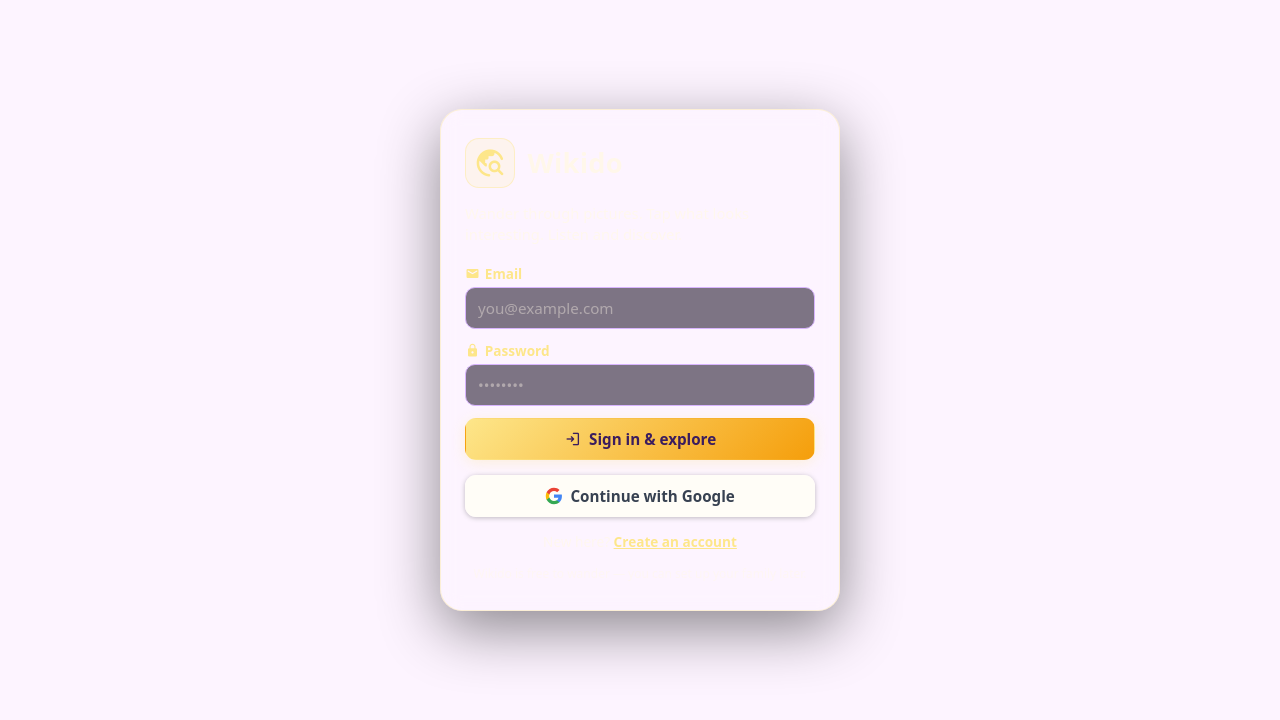
WikidoGate › translates auth failures into friendly copy
The image size is (1280, 720).
Type "kid@example.com" into the field labelled "Email". click: (640, 308)
box: [465,287,815,328]
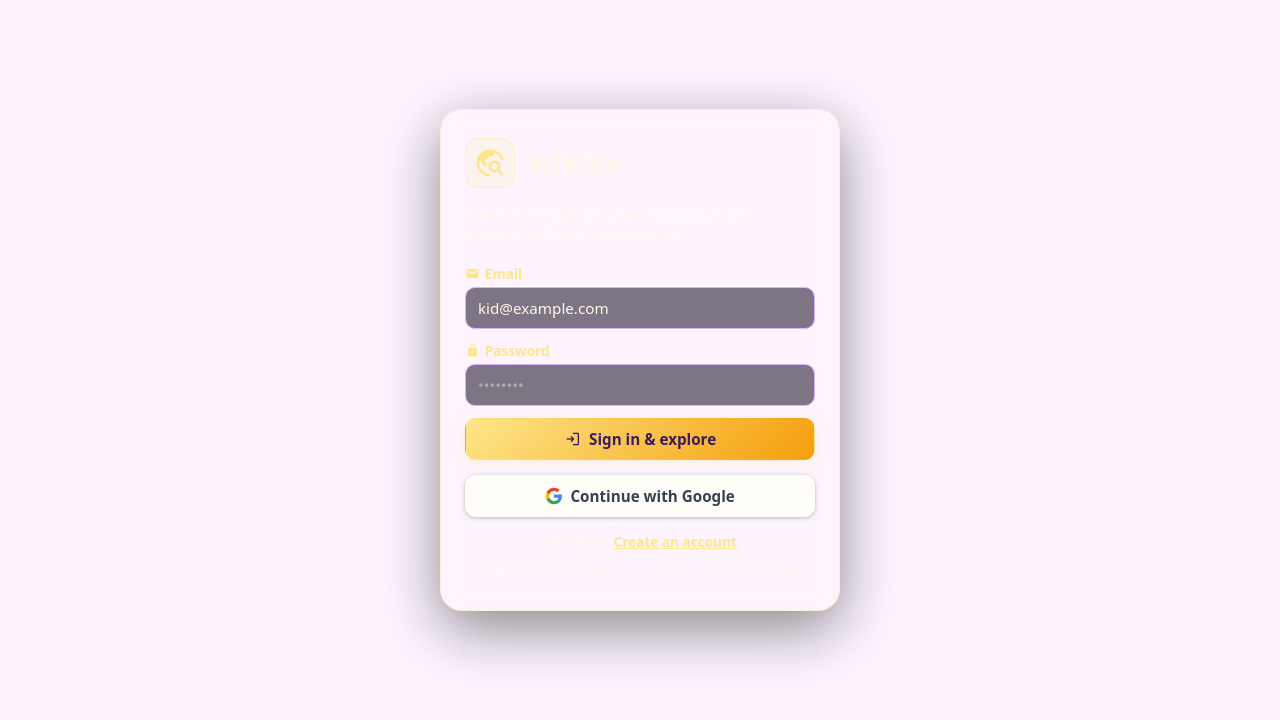
Type "wrong-pass" into the password field labelled "Password". click: (640, 385)
box: [465,364,815,406]
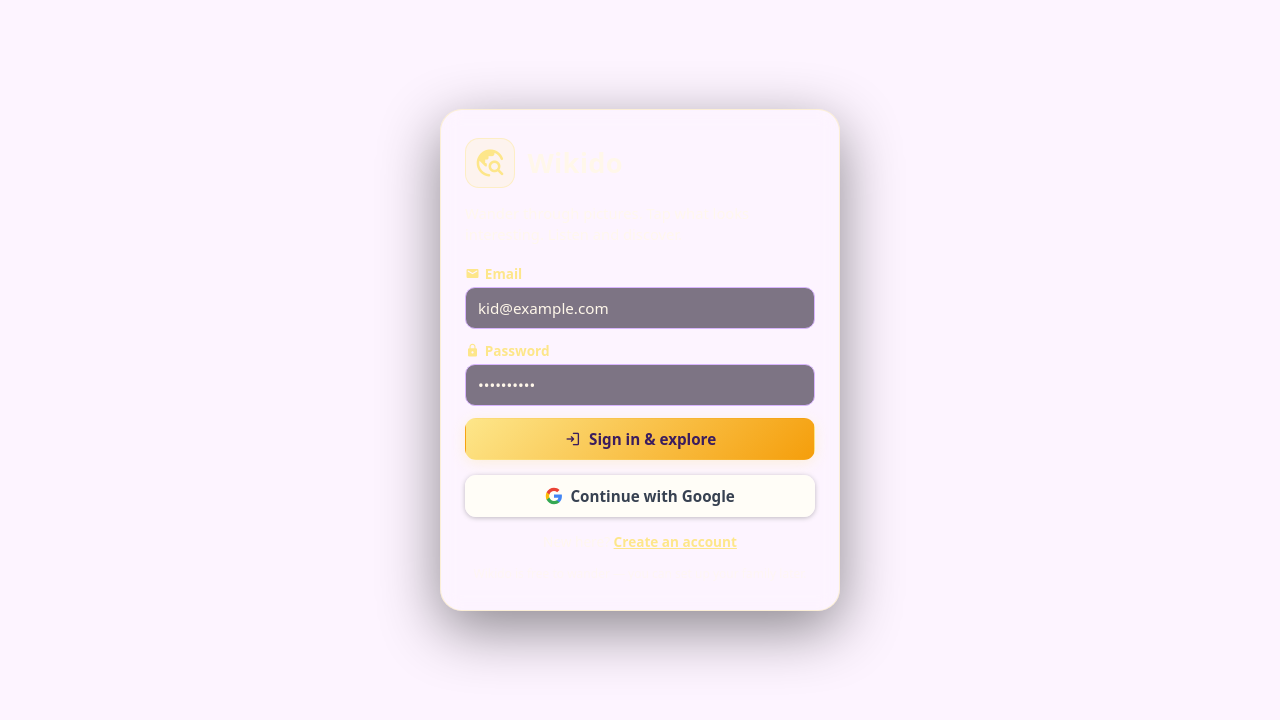
Submit the form, box [465,264,815,460]
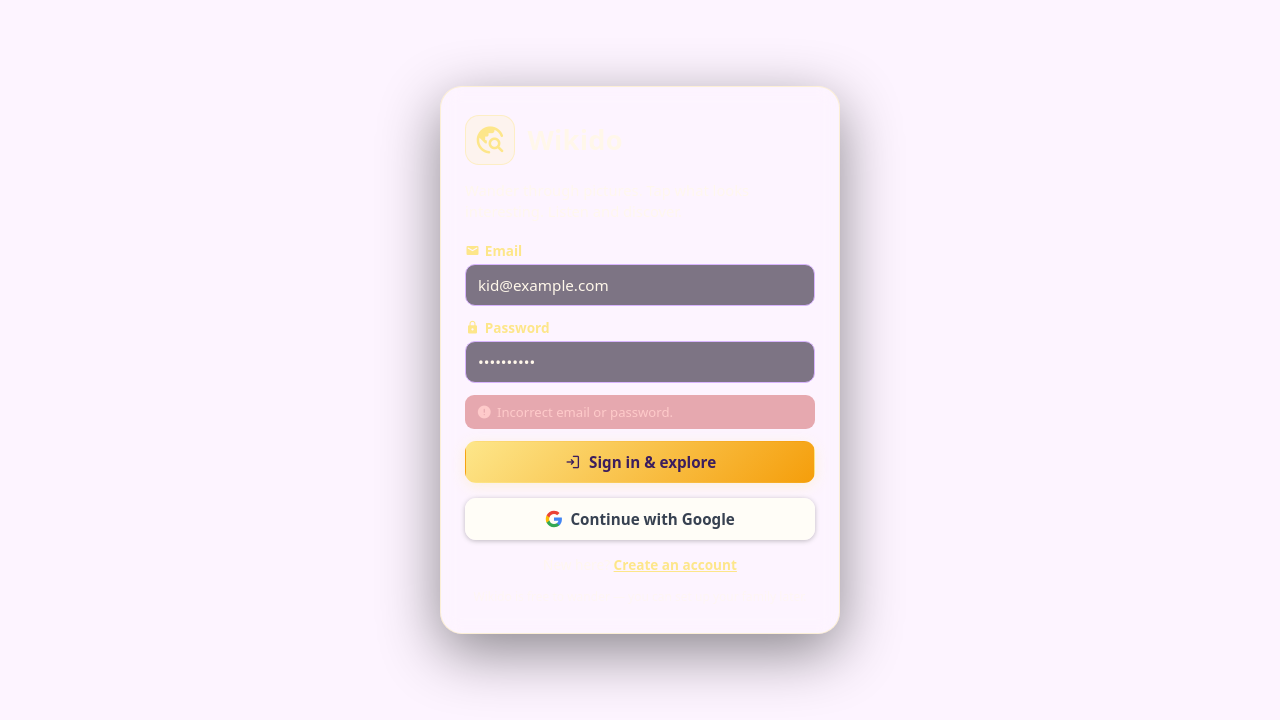
Expected: the message with class "wd-gate-error" reads "Incorrect email or password.", [497,402,673,420]
Submit the form, box [465,240,815,483]
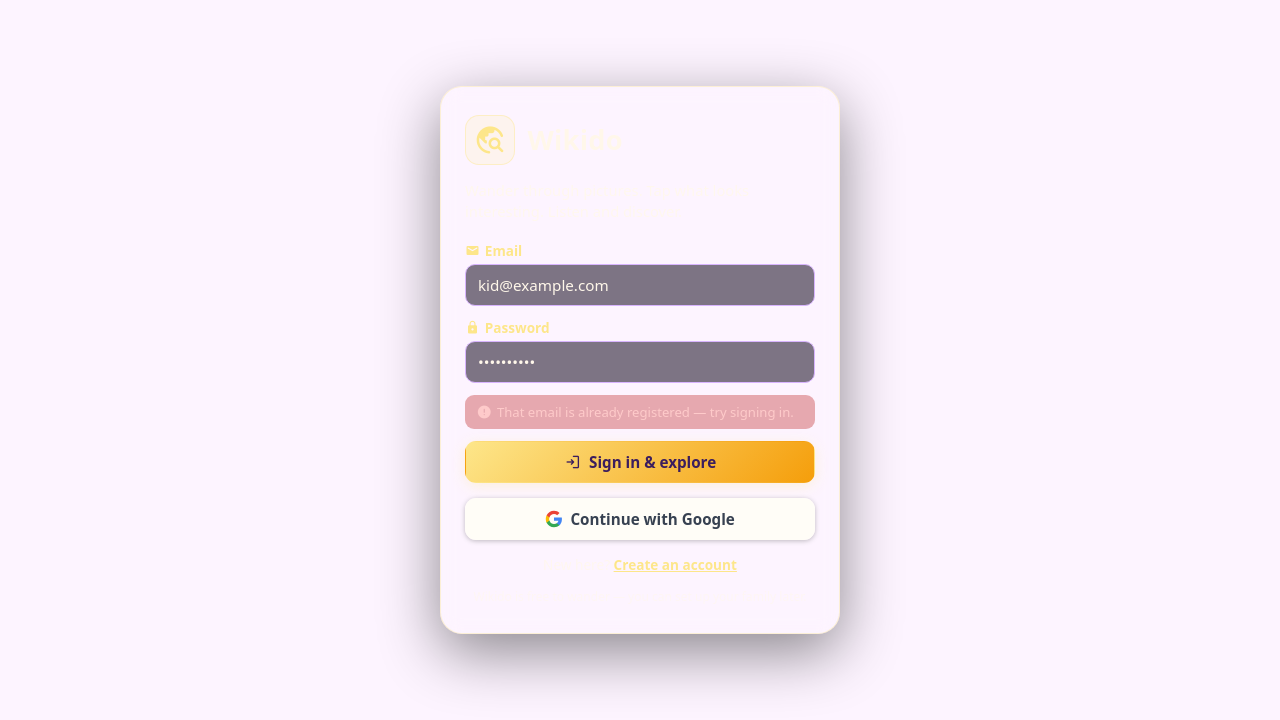
Expected: the message with class "wd-gate-error" shows "already registered", [497,402,794,420]
Submit the form, box [465,240,815,483]
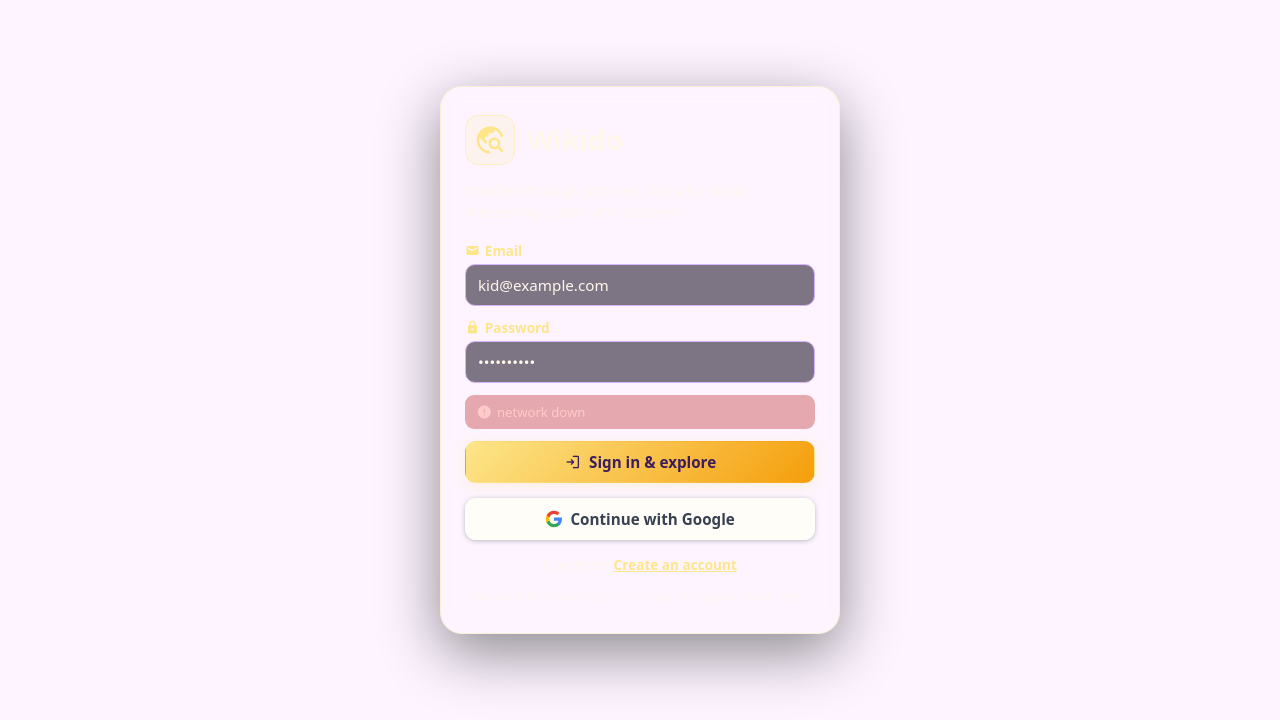
Expected: the message with class "wd-gate-error" reads "network down", [497,402,585,420]
